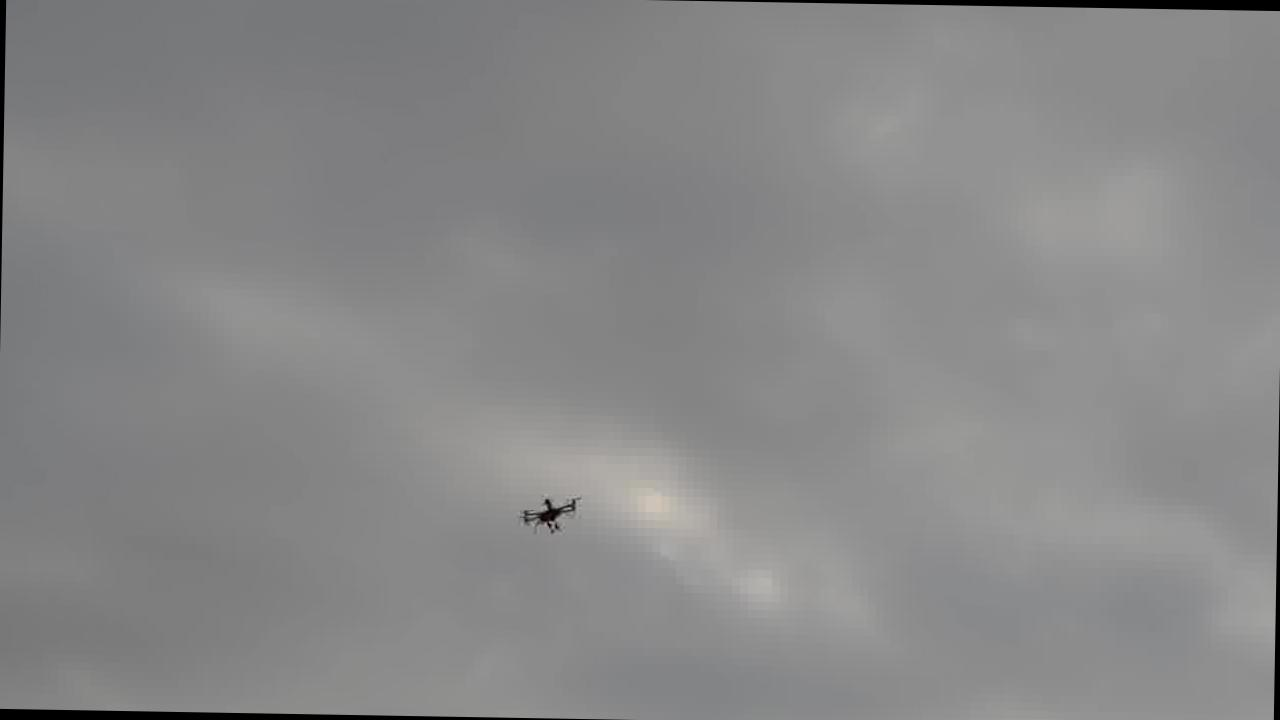drone: (514, 488, 589, 538)
